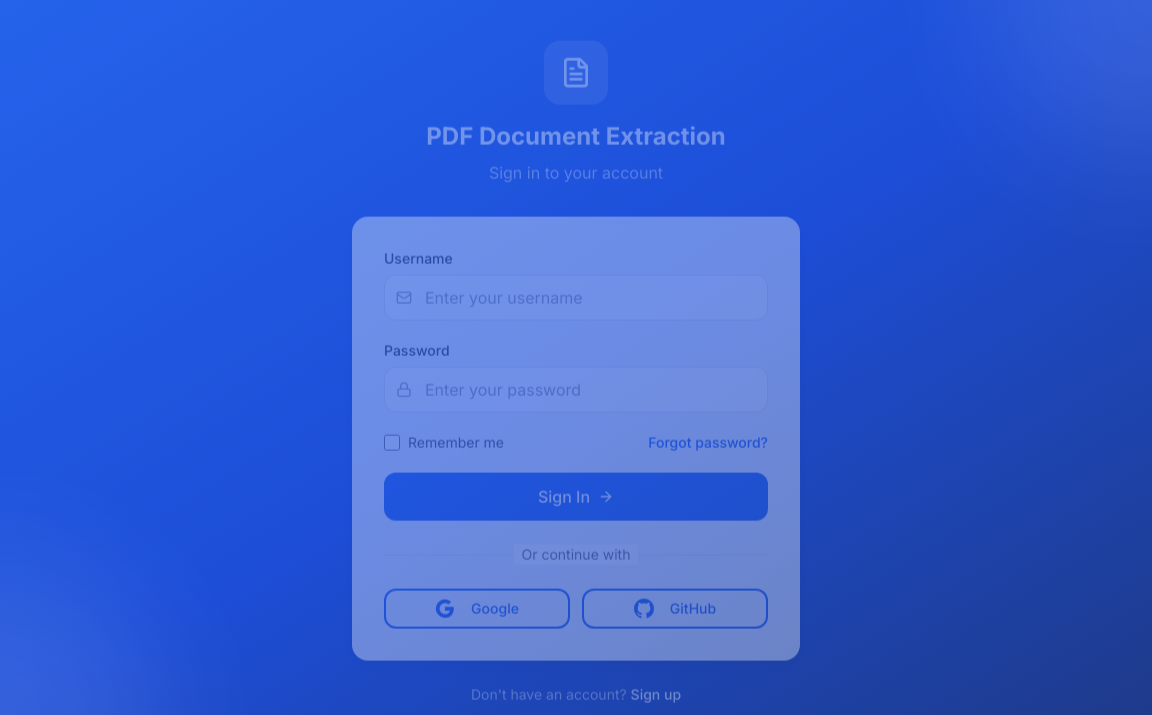
LoginPage › Form Validation › clears errors when user starts typing
Click the button "Sign In". click: [576, 497]
box: [384,473,768,521]
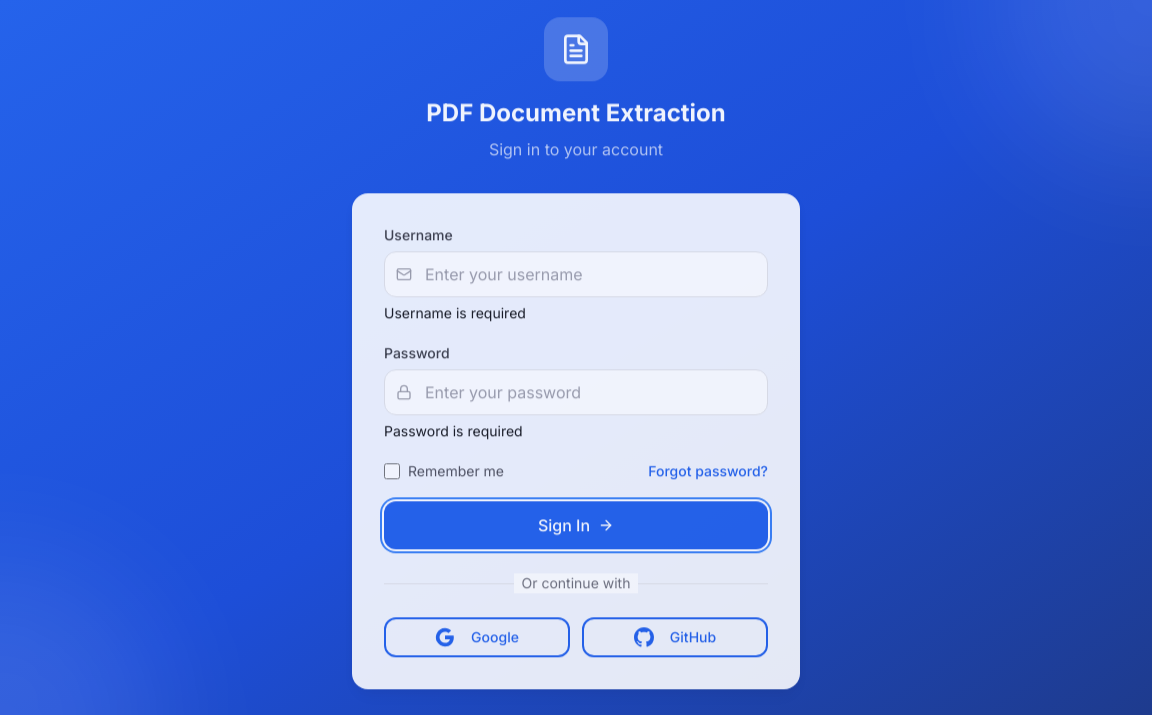
Check: the text "Username is required" is shown, box [384,304,526,321]
Type "t" into the field labelled "Username". click: [576, 274]
box: [384,251,768,297]
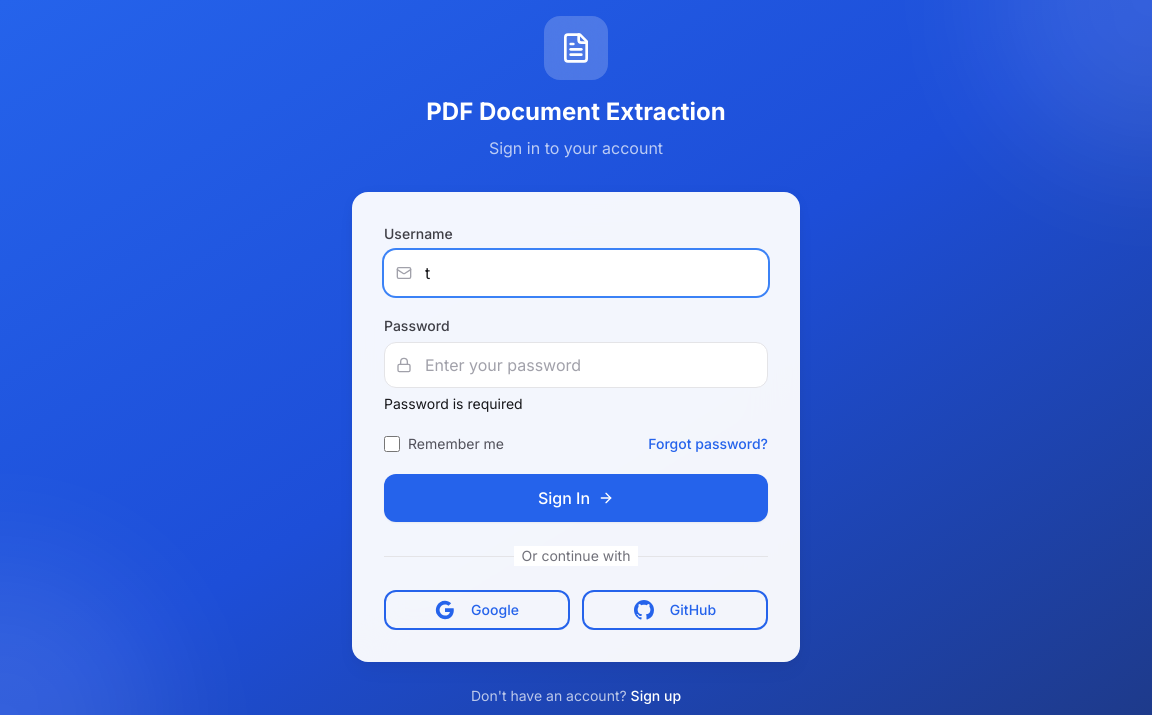
Check: the text "Username is required" is gone
